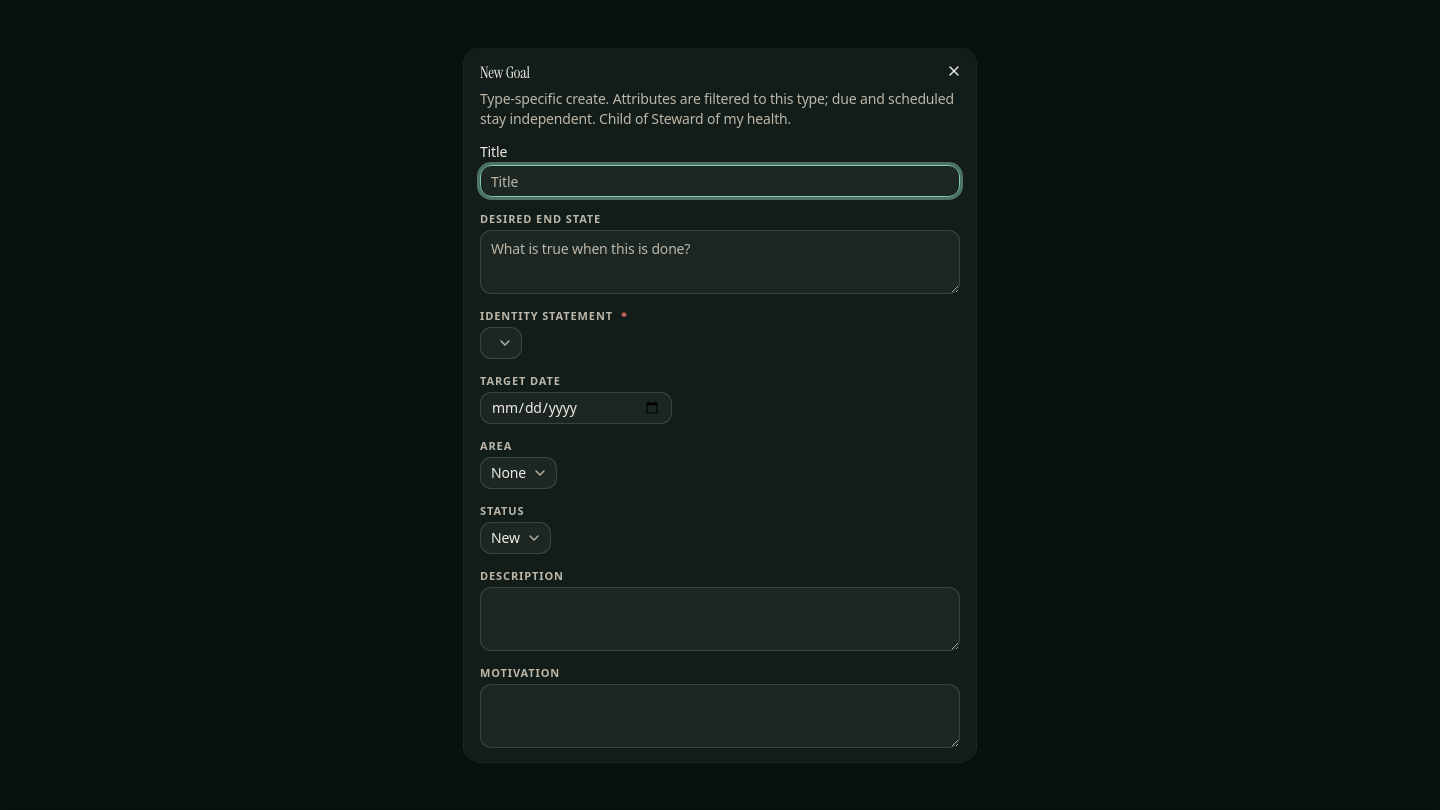
Scenario: NewSubjectDialog › shows the API error and stays open when the create is rejected
This screenshot has width=1440, height=810.
In the field labelled "Title": (720, 181) [480, 165, 960, 197], type "Run a marathon"
(page scrolled)
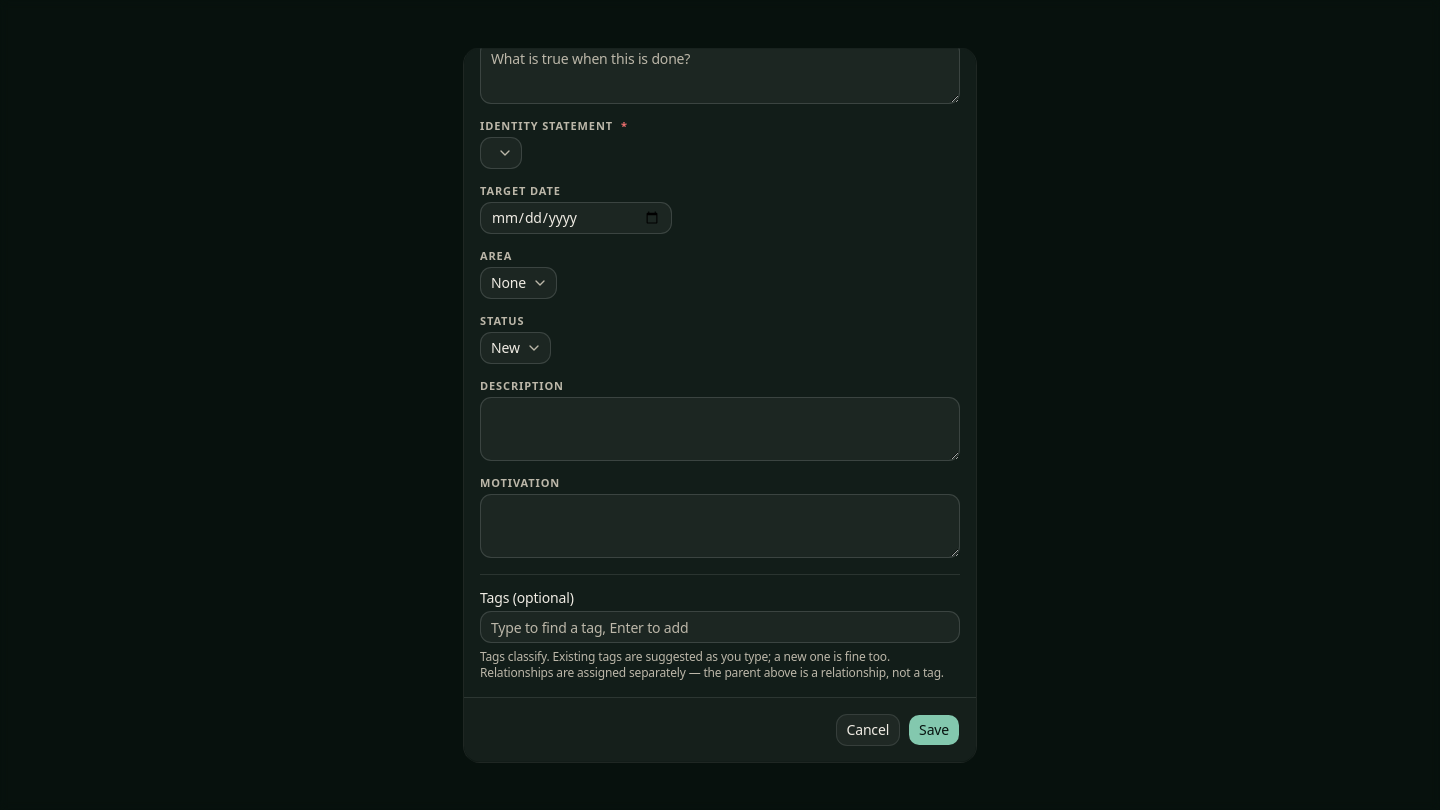
Click the button "Save": (934, 730) [908, 714, 960, 746]
(page scrolled)
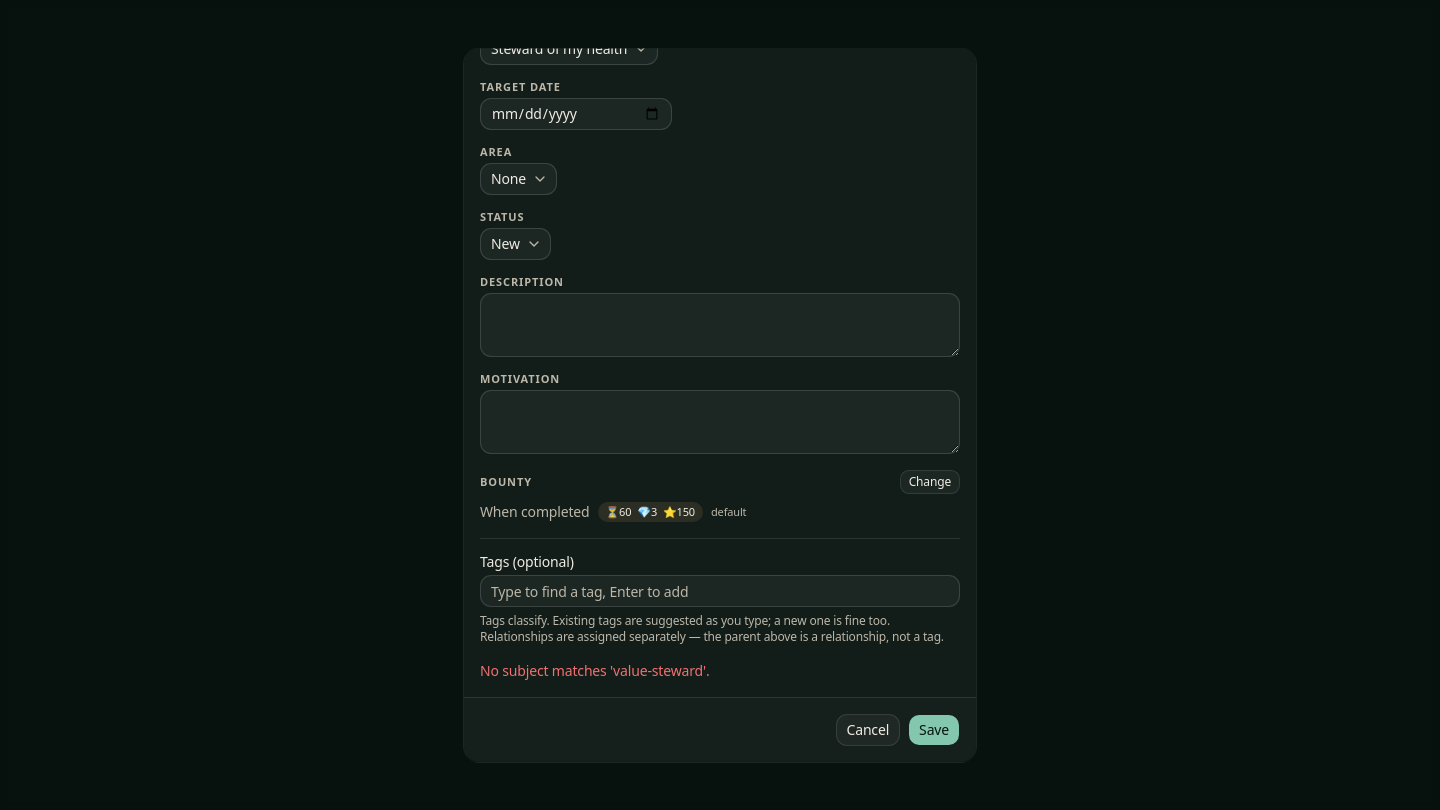
Check: the button "Save" is enabled, box [908, 714, 960, 746]
Check: the message reads "No subject matches 'value-steward'.", box [480, 661, 710, 680]
